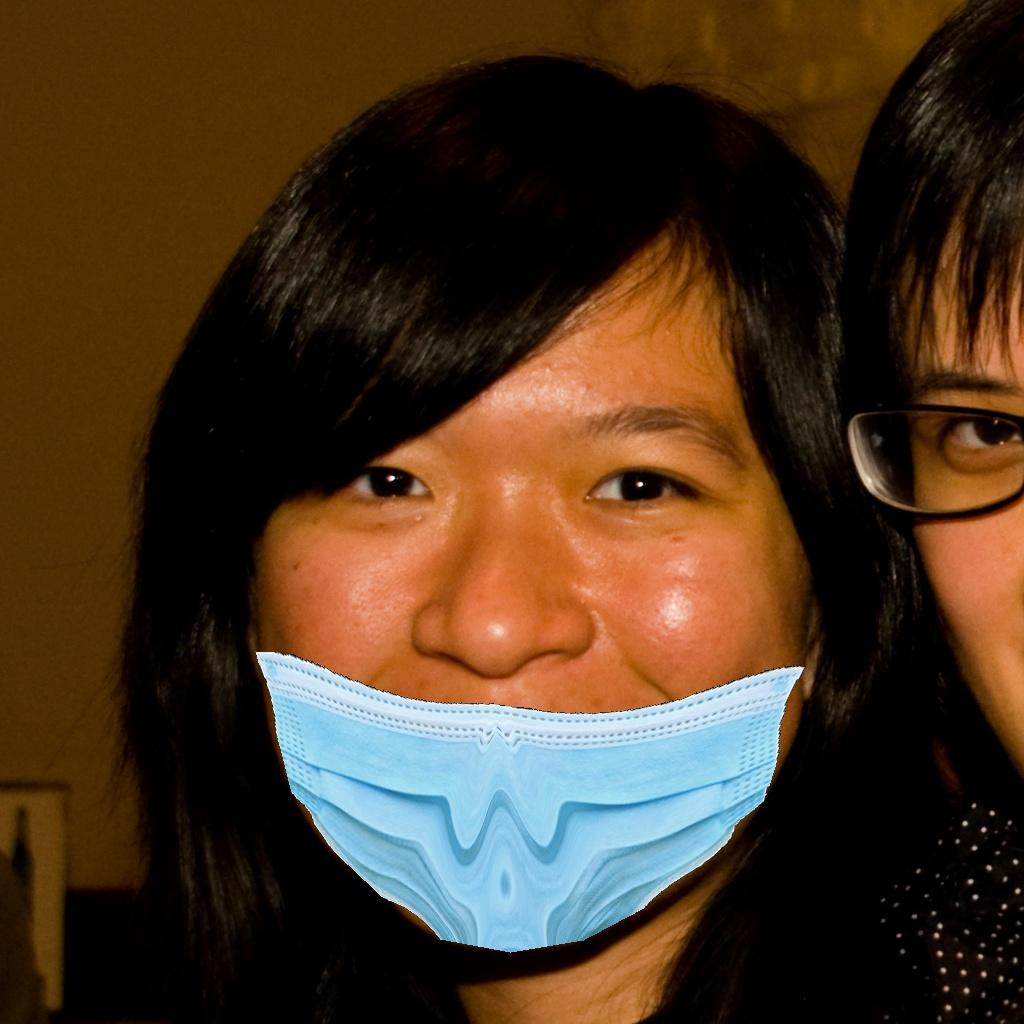Máscara Incorreta: (240, 370, 783, 924)
